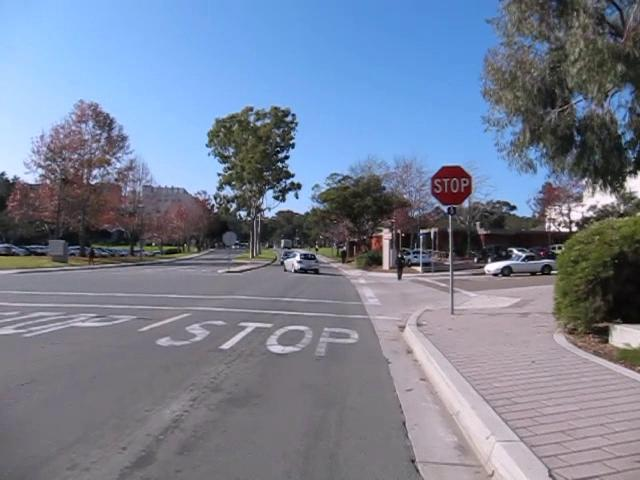stop: (429, 164, 472, 206)
